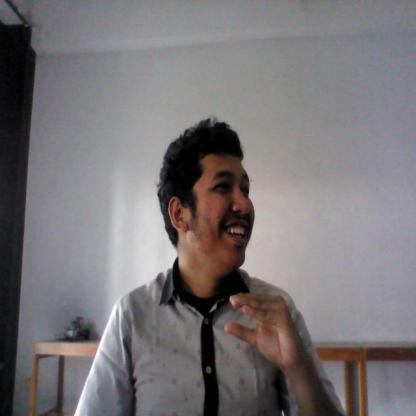Pagi: (216, 282, 310, 371)
